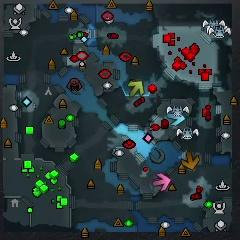x1: (151, 172, 173, 192)
x2: (127, 80, 145, 99)
x3: (166, 112, 185, 126)
x5: (180, 150, 200, 170)
